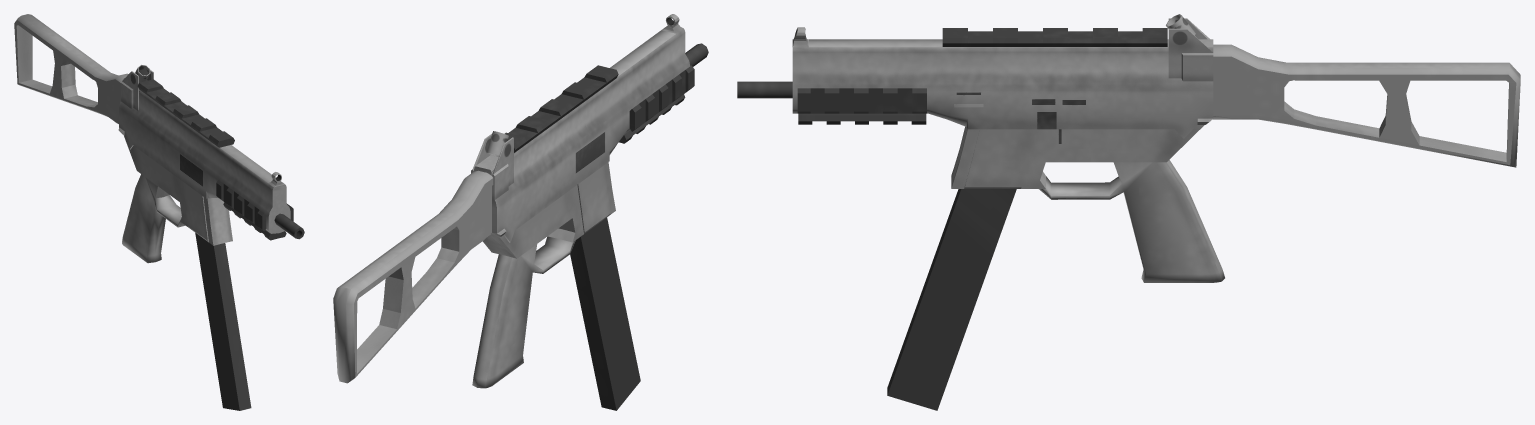
Rendered from ump45.FBX.
3 renders of one model, left to right at view 1: azimuth 30°, elevation 25°; view 2: azimuth 150°, elevation 25°; view 3: azimuth 270°, elevation 25°, orthographic. The views are drawn at different scales.
Visible parts, largest first — view 1: Box001; view 2: Box001; view 3: Box001.
Part boxes in pixels (x1,y1,x2,y2): Box001: (14, 14, 304, 410); Box001: (333, 14, 708, 410); Box001: (737, 14, 1520, 410).
Bounding box in the file's own units: 2.28 × 19.25 × 34.94.
1 material, 1 textured.
